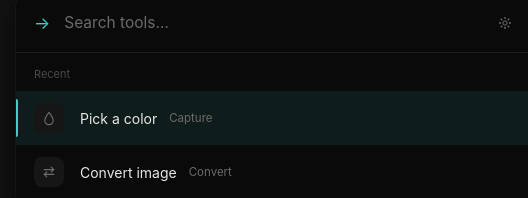
Test: an available no-argument tool runs immediately and shows its result
The image size is (528, 198).
Click the text "Pick a color" at (119, 118), box [80,110,157,126]
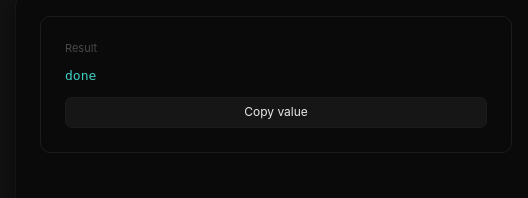
Expected: the text "done" is shown, [65,68,96,83]
